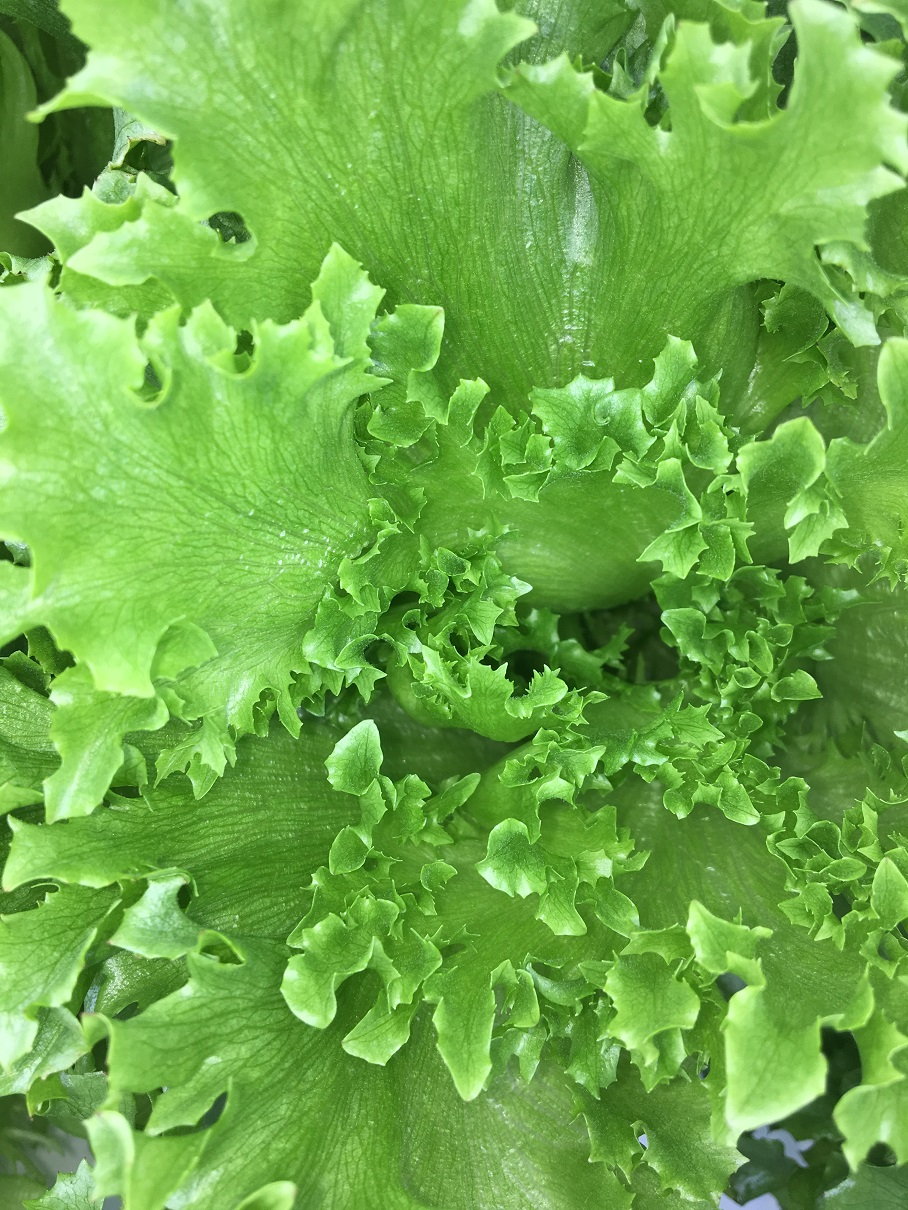tipburn: (108, 116, 167, 163), (73, 999, 115, 1035), (1, 878, 23, 910)
